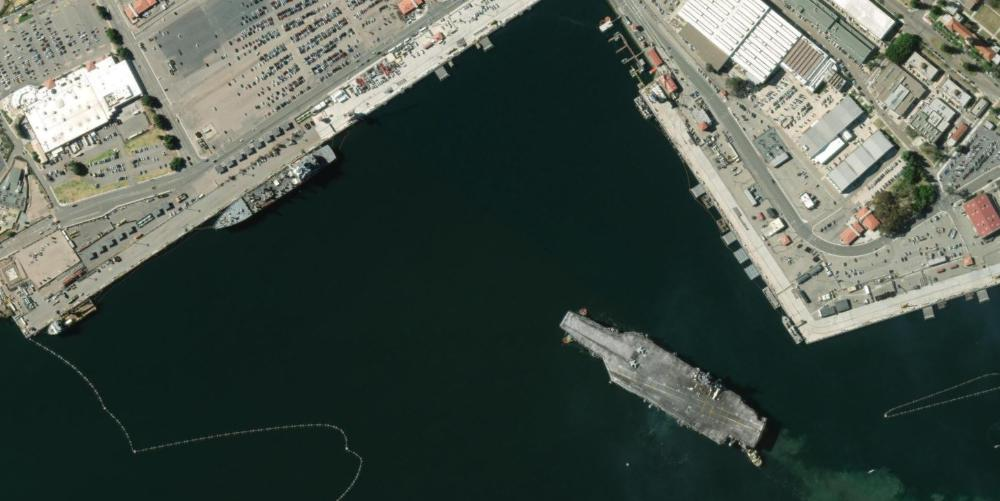supply: (213, 143, 338, 233)
